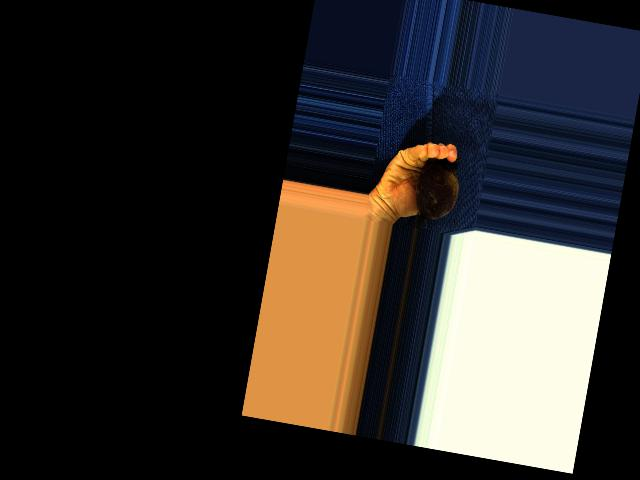beet: (408, 150, 463, 234)
